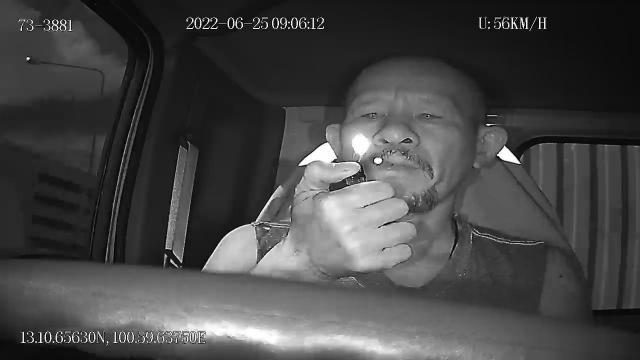SafeDriving: (407, 99, 450, 128), (354, 102, 391, 128)
Smoking: (371, 154, 391, 168)
